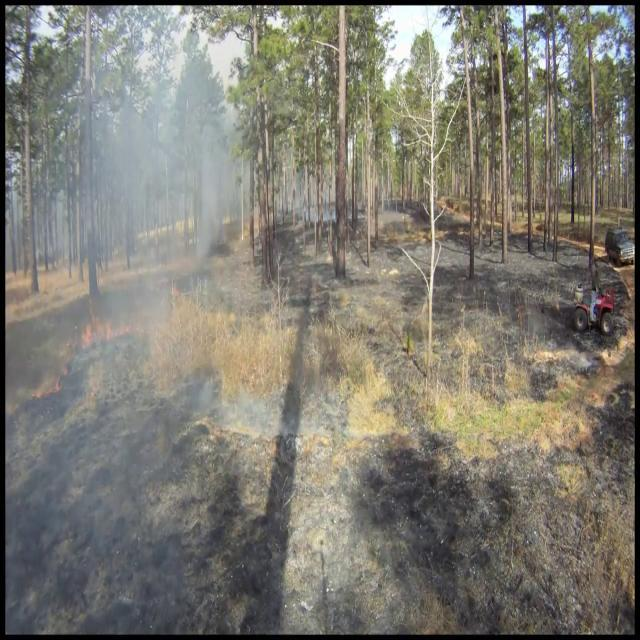Smoke: (30, 25, 256, 616)
